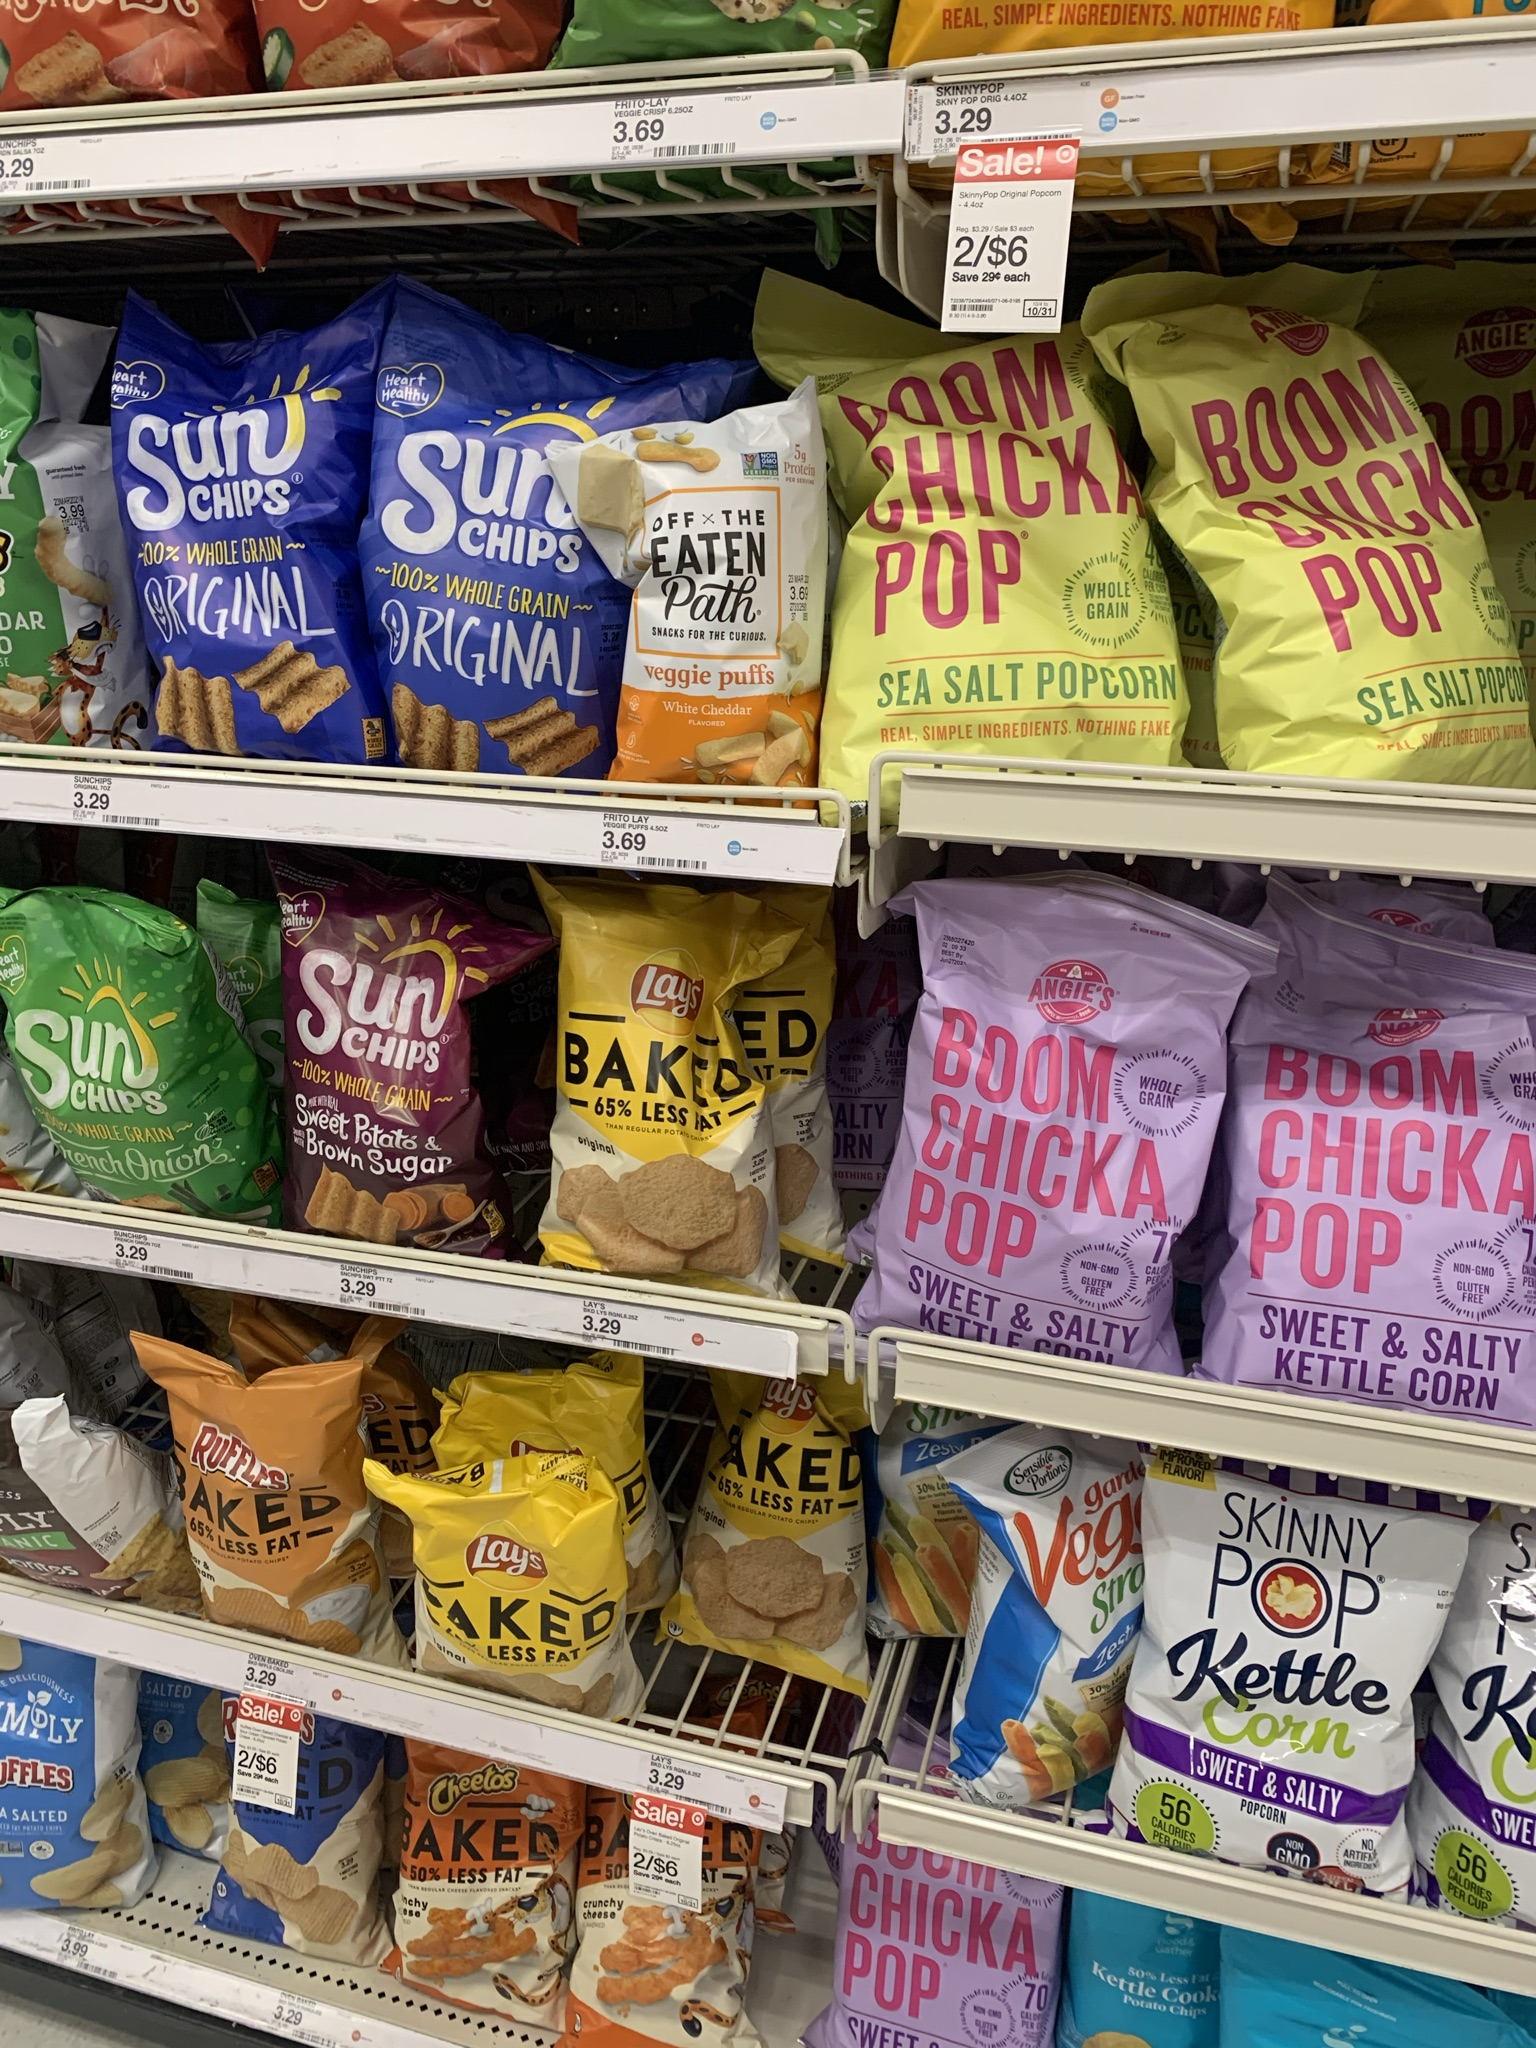Chips: (371, 271, 607, 784), (536, 871, 799, 1306), (110, 306, 357, 764), (553, 434, 824, 780), (269, 871, 497, 1251), (2, 889, 245, 1224), (394, 1746, 579, 2017)
